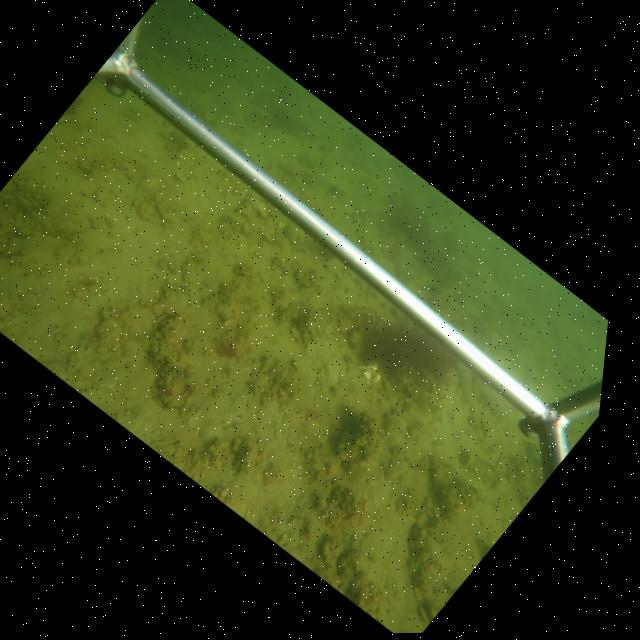Oyster-Open: (415, 593, 438, 627)
